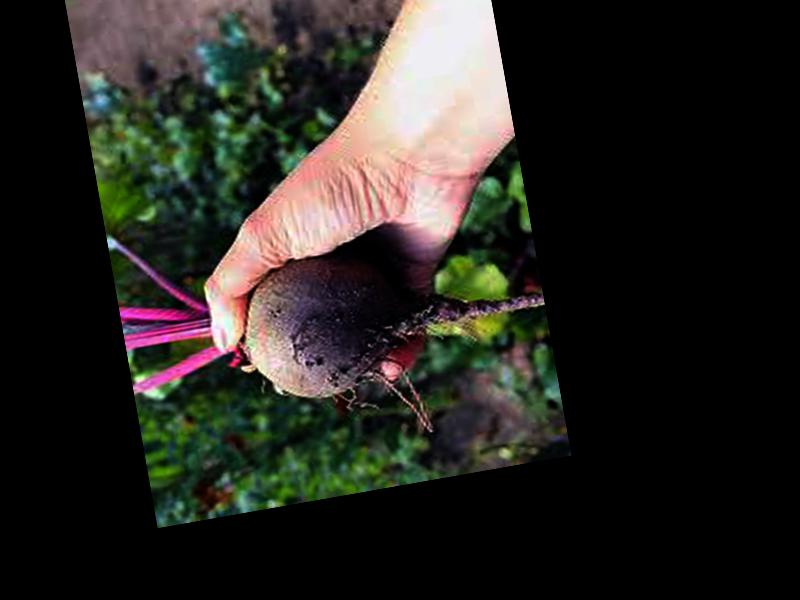Beet: (108, 160, 563, 483)
